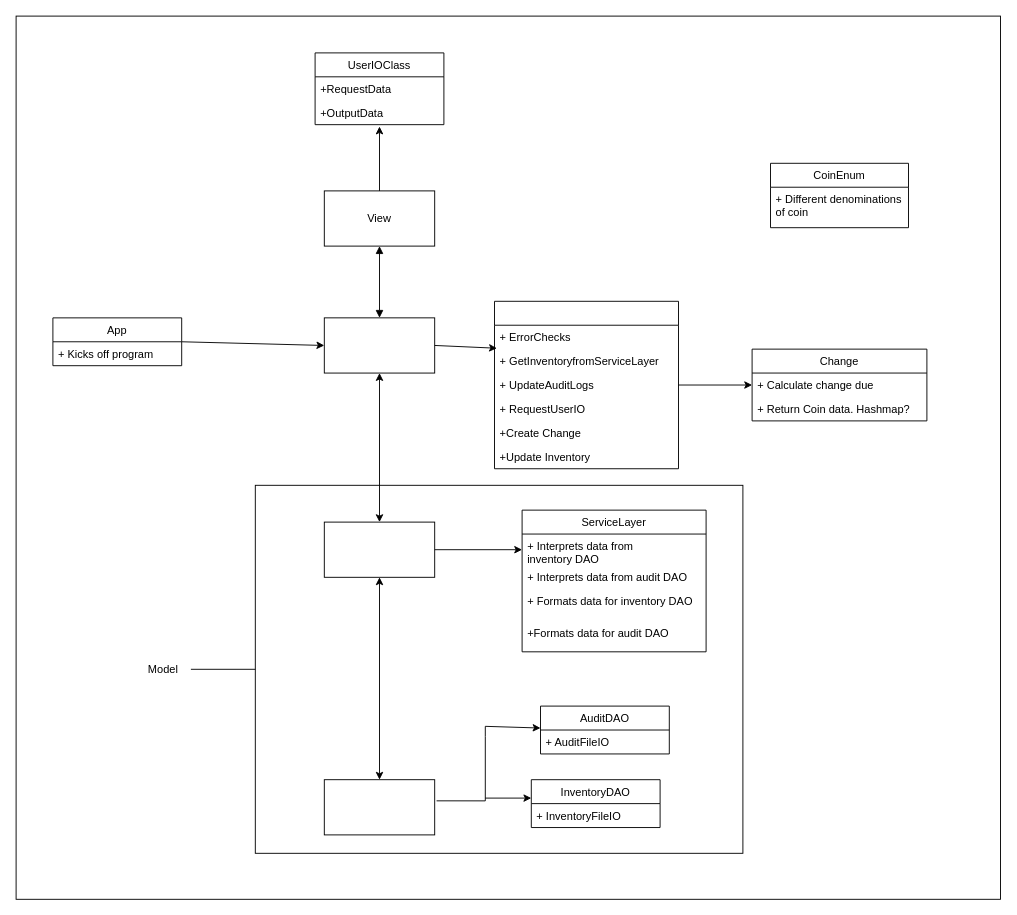
The diagram is 1017 pixels wide and 915 high, and some of its shapes have lost their labels. Each missing label, with the box of its shape:
Controller: (323, 317, 435, 373)
DAO's: (323, 779, 435, 835)
Service Layer: (323, 521, 435, 577)
VendingMachineController: (494, 300, 678, 469)
